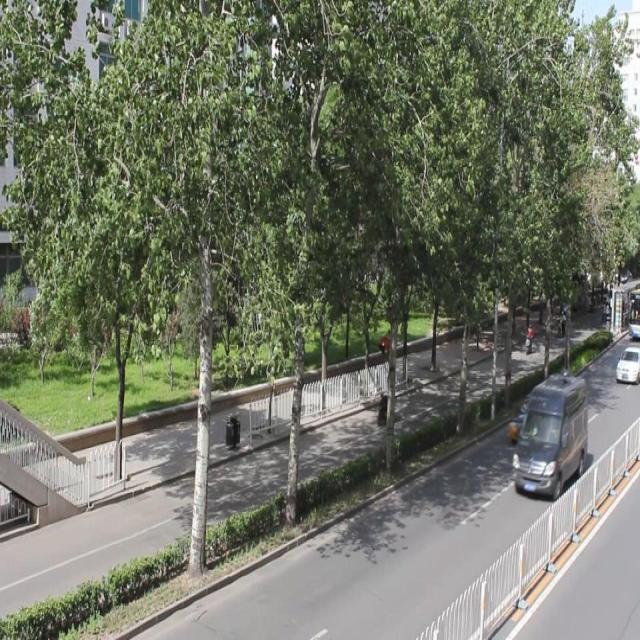truck: (510, 374, 585, 497)
